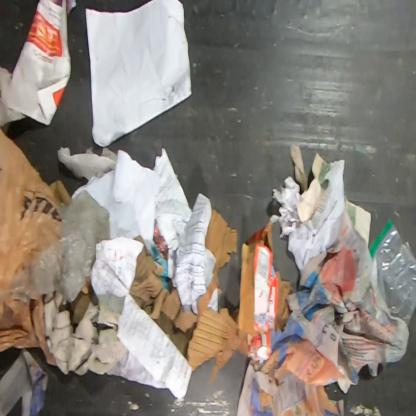cardboard: (129, 235, 198, 360), (186, 270, 250, 385), (237, 221, 278, 364), (205, 209, 238, 276), (276, 270, 292, 330)
soft_plastic: (0, 127, 73, 367), (11, 189, 113, 304), (368, 218, 416, 329)
